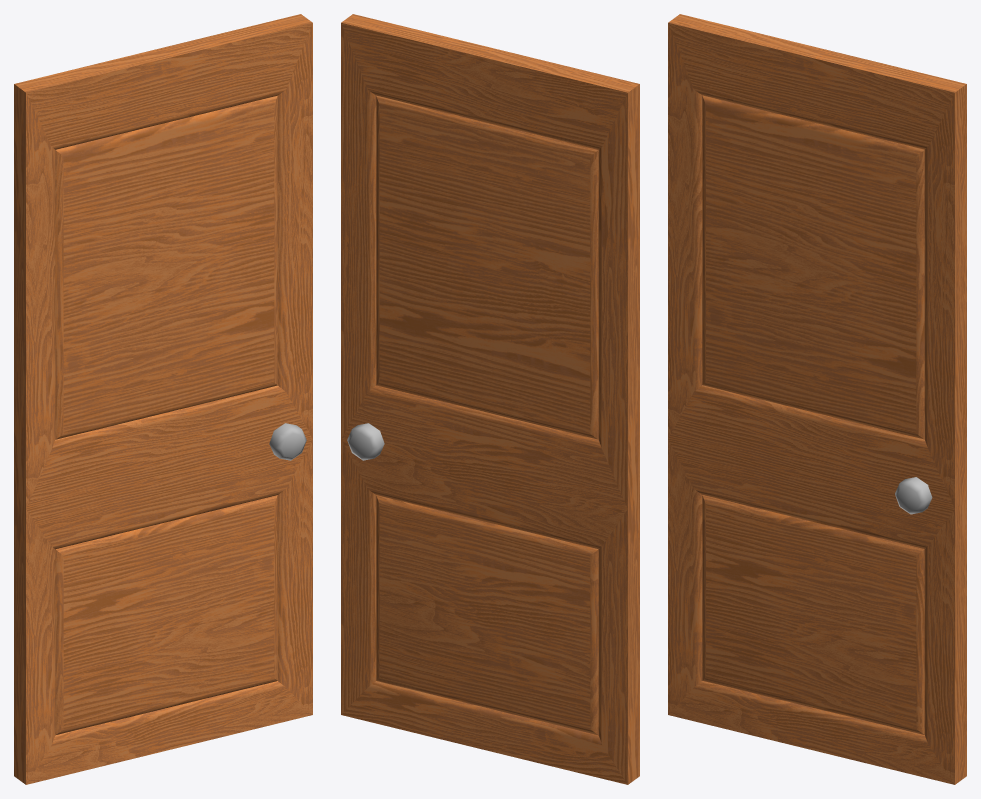
File: door_006.fbx
3 views of the same model, side by side, from view 1: azimuth 30°, elevation 25°; view 2: azimuth 150°, elevation 25°; view 3: azimuth 330°, elevation 25° (orthographic).
Visible parts, largest first — view 1: door_006; view 2: door_006; view 3: door_006.
Part boxes in pixels (x1,y1,x2,y2): door_006: [14, 14, 312, 784]; door_006: [341, 14, 639, 784]; door_006: [668, 14, 966, 784].
Bounding box in the file's own units: 95.15 × 23.13 × 219.
